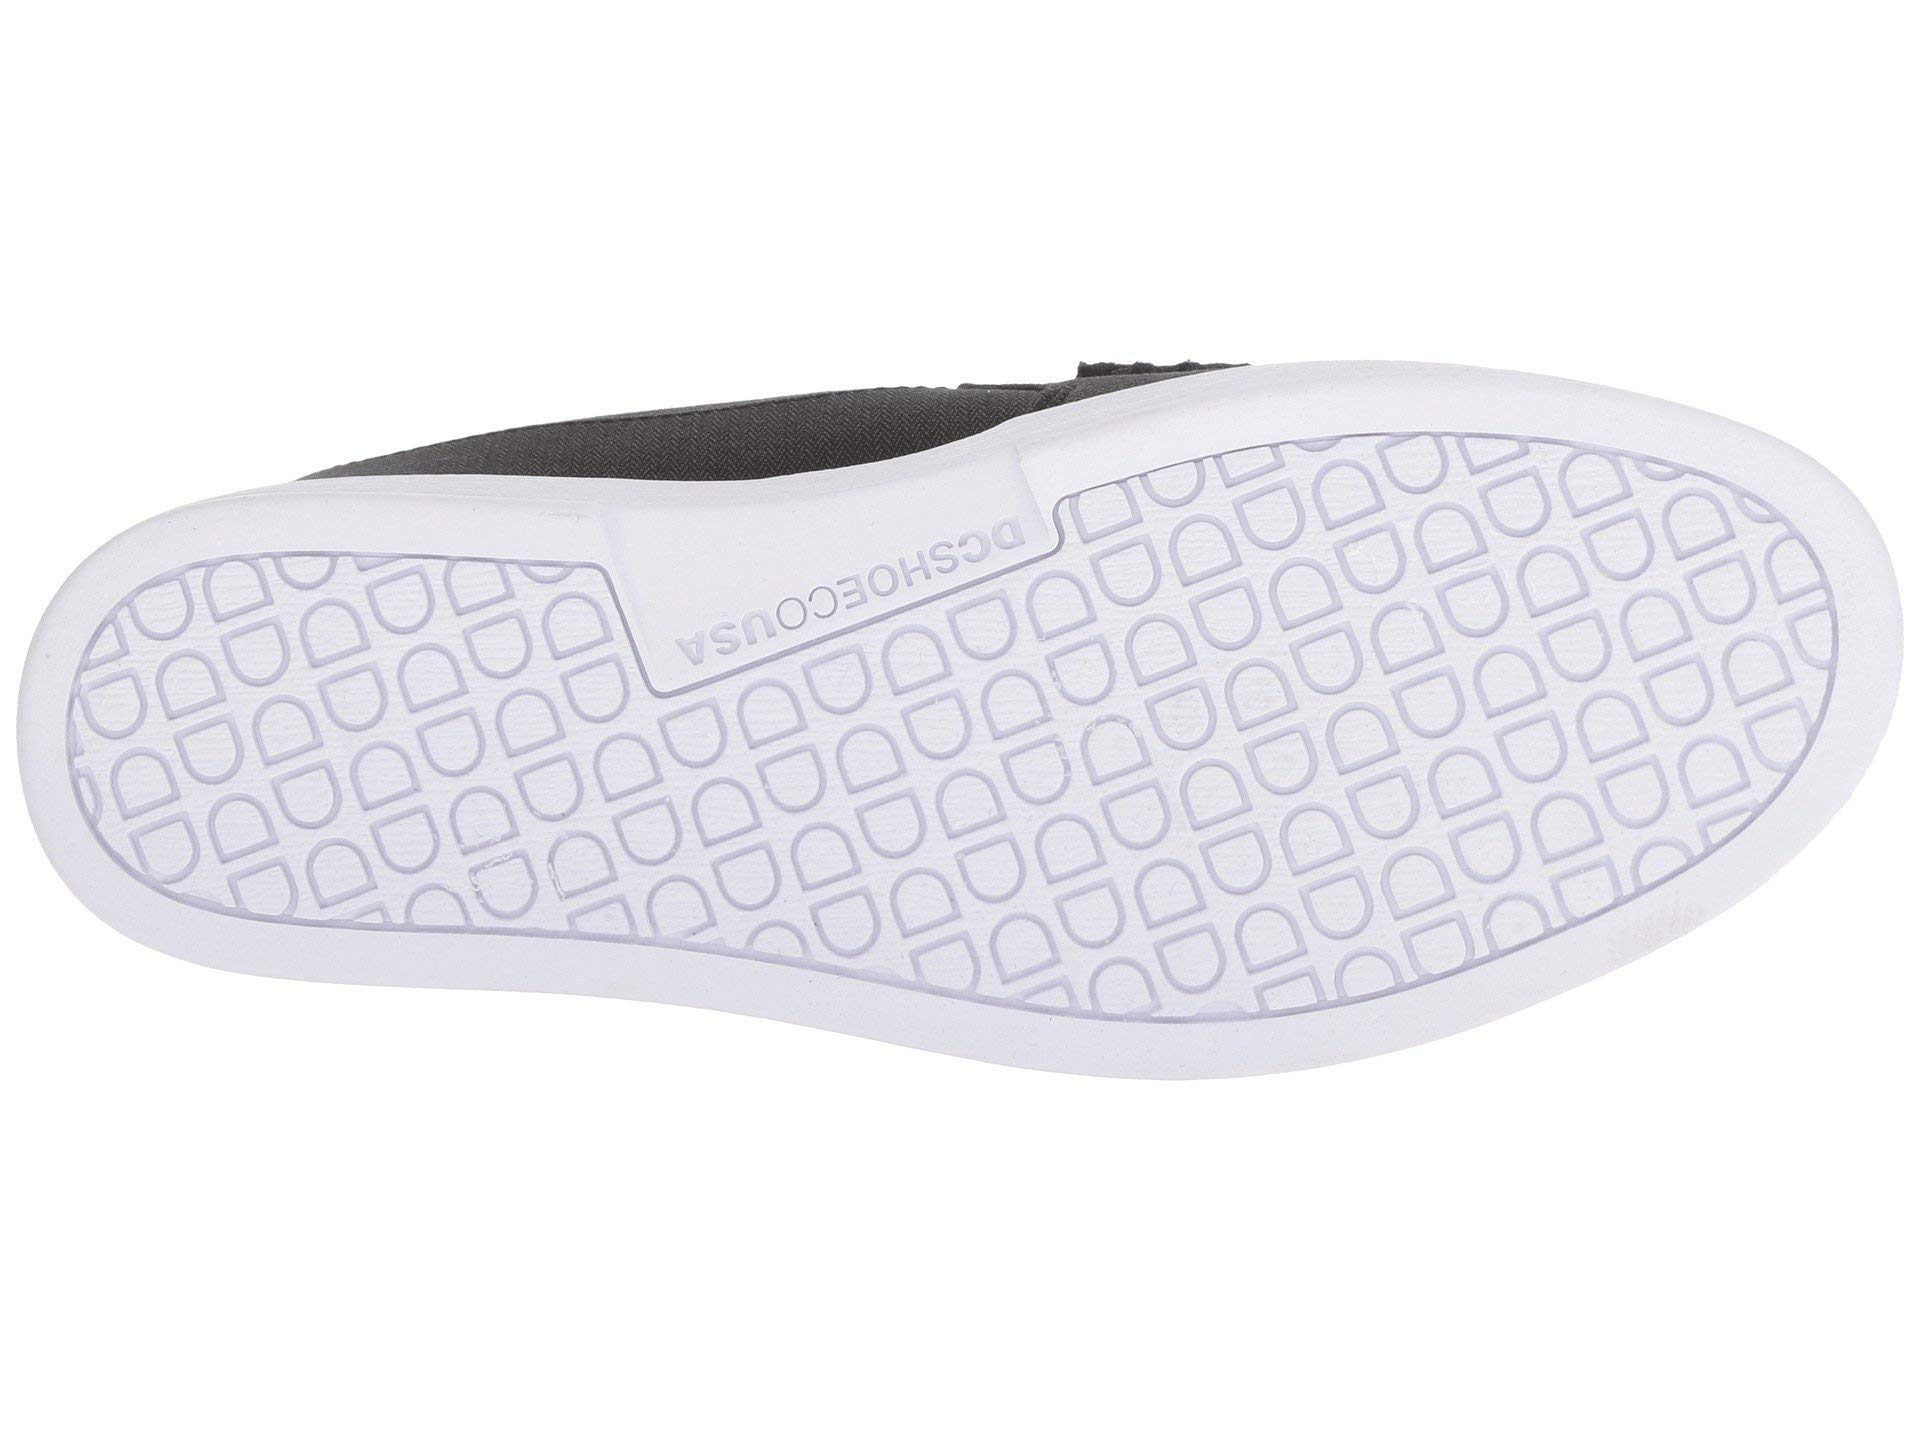circle: (1321, 499, 1716, 886), (141, 601, 605, 894), (670, 504, 1051, 835), (934, 800, 1166, 1032)
quad: (1321, 499, 1716, 886), (141, 601, 605, 894), (670, 504, 1051, 835), (698, 722, 1158, 992), (934, 800, 1166, 1032)
text: (670, 504, 1051, 835)
